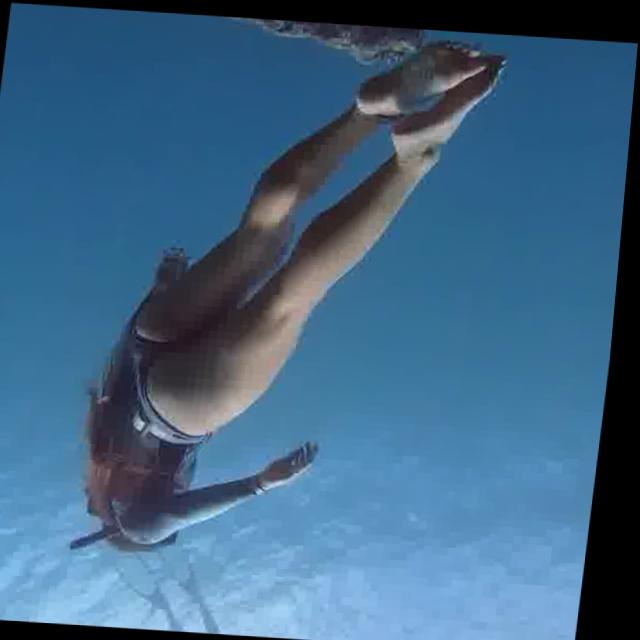human: (63, 18, 522, 583)
